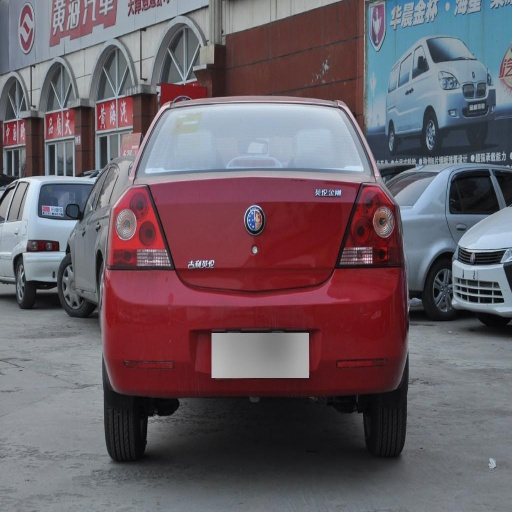back_bumper: (105, 243, 408, 398)
back_right_light: (346, 188, 398, 265)
tailgate: (160, 218, 297, 292)
trunk: (135, 171, 375, 295), (135, 288, 263, 328)
